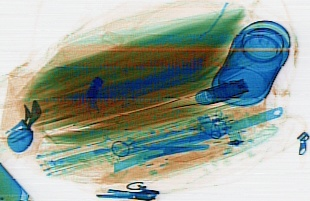scissors: (116, 137, 209, 167)
